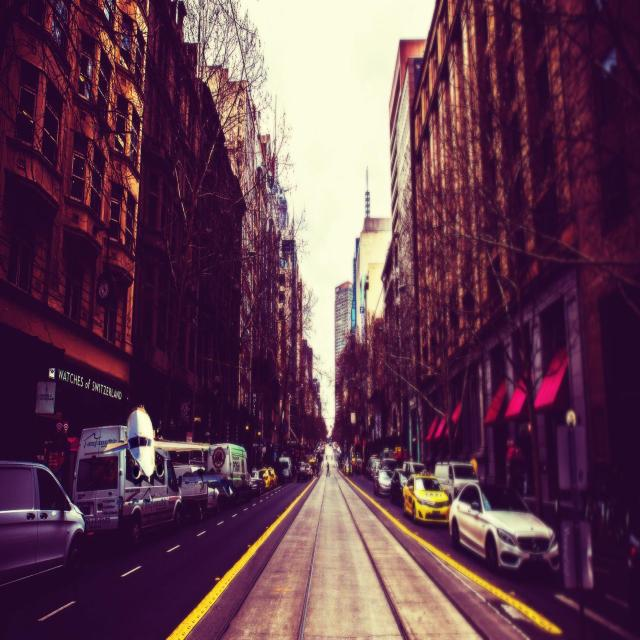airplane: (103, 399, 212, 490), (183, 462, 237, 497)
